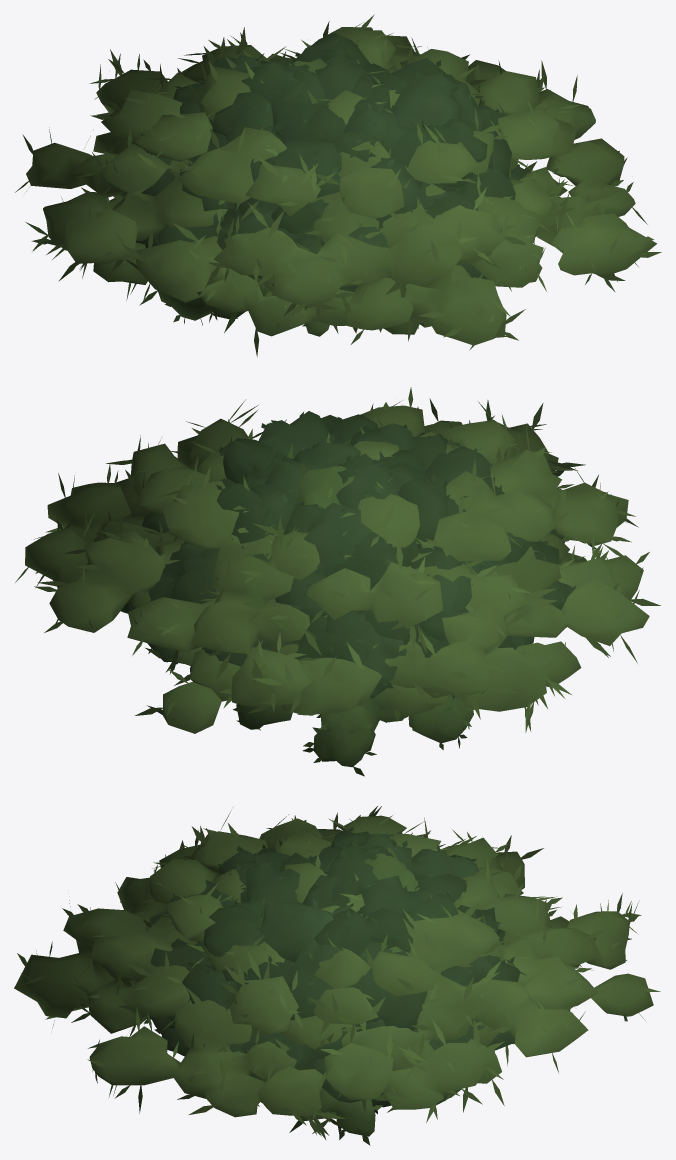
File: shrubs-ultra.glb
3 views of the same model, one above another, from view 1: azimuth 30°, elevation 25°; view 2: azimuth 150°, elevation 25°; view 3: azimuth 270°, elevation 25° (orthographic). The views are drawn at different scales.
Parts seen in each view (by area): view 1: sasa_near, azalea_w_near, azalea_near, kerria_near; view 2: sasa_near, azalea_w_near, azalea_near, kerria_near; view 3: sasa_near, azalea_near, azalea_w_near, kerria_near.
Boxes of the visible parts, left/top/right/bottom form: sasa_near: left=15, top=14, right=661, bottom=357; azalea_w_near: left=125, top=45, right=520, bottom=291; azalea_near: left=138, top=33, right=532, bottom=325; kerria_near: left=158, top=58, right=431, bottom=336; sasa_near: left=15, top=387, right=660, bottom=733; azalea_w_near: left=127, top=411, right=542, bottom=698; azalea_near: left=121, top=414, right=575, bottom=698; kerria_near: left=186, top=462, right=474, bottom=776; sasa_near: left=14, top=806, right=660, bottom=1140; azalea_near: left=143, top=827, right=526, bottom=1114; azalea_w_near: left=149, top=833, right=515, bottom=1102; kerria_near: left=250, top=847, right=494, bottom=1145.
Size of the model in its own units: 2.44 by 1.1 by 2.59.
